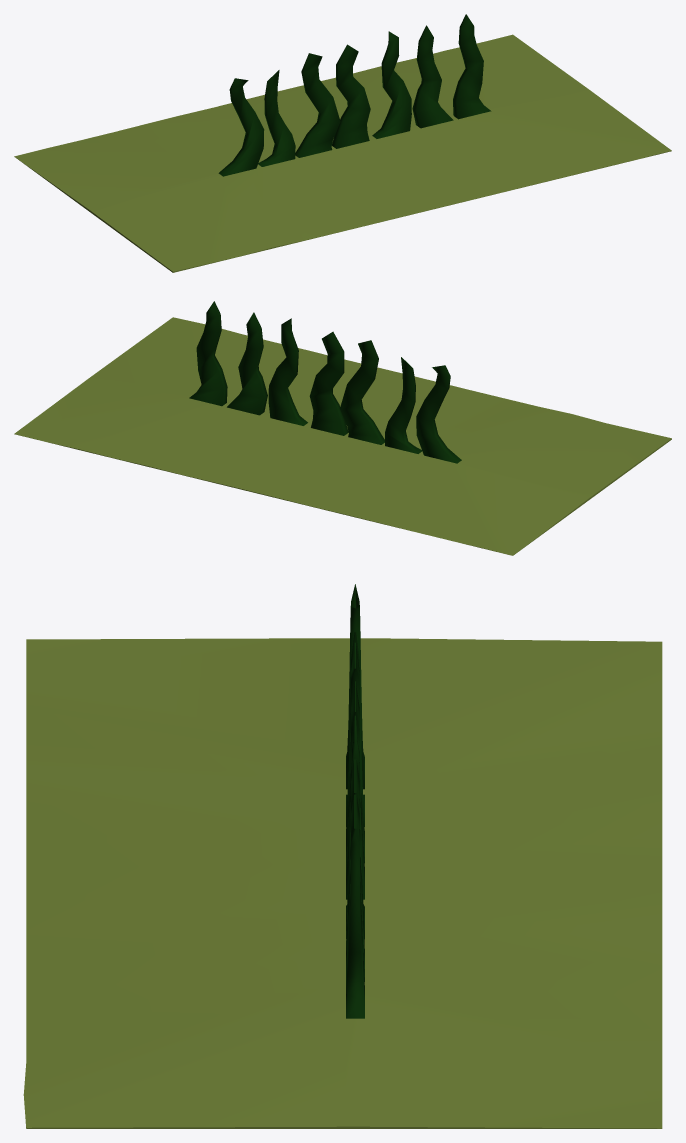
The model's file is SeaWeed2_model.FBX.
The picture shows the model from 3 angles, top to bottom: view 1: azimuth 30°, elevation 25°; view 2: azimuth 150°, elevation 25°; view 3: azimuth 270°, elevation 25°; orthographic projection. The views are drawn at different scales.
Visible parts, largest first — view 1: Box001; view 2: Box001; view 3: Box001.
Boxes of the visible parts, x1,y1,x2,y2 form: Box001: (14,14,671,272); Box001: (14,301,671,555); Box001: (23,584,662,1128).
Size of the model in its own units: 32.34 by 6.73 by 17.92.
